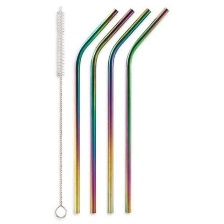drinking_straw: (121, 4, 174, 216), (68, 4, 120, 217)
